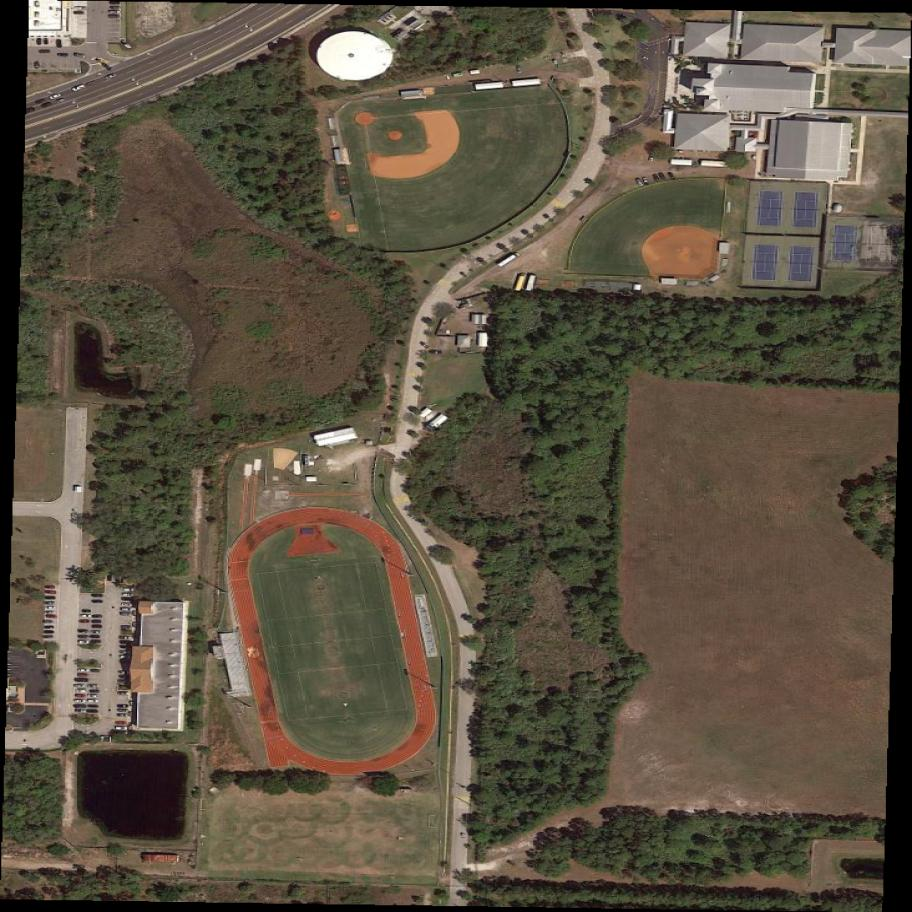large-vehicle: (497, 251, 522, 270), (515, 272, 527, 292)
small-vehicle: (658, 171, 669, 183), (106, 72, 118, 81), (50, 92, 62, 100), (653, 173, 662, 183), (55, 97, 66, 105), (74, 83, 85, 91), (668, 171, 677, 180), (108, 13, 121, 19), (42, 102, 54, 108), (77, 634, 90, 639), (637, 179, 644, 188), (644, 176, 651, 185), (78, 639, 90, 644), (75, 704, 87, 709), (74, 11, 86, 16), (90, 669, 102, 674), (35, 99, 46, 104), (76, 683, 87, 688), (649, 153, 655, 162), (76, 53, 86, 58), (93, 613, 103, 618), (78, 668, 90, 672), (76, 678, 88, 682), (119, 640, 131, 644), (57, 53, 69, 57), (81, 614, 91, 618), (120, 704, 130, 708), (78, 673, 88, 677), (76, 689, 86, 693), (121, 645, 131, 649), (57, 40, 62, 48), (90, 684, 100, 688), (45, 602, 55, 606), (78, 630, 88, 634), (123, 588, 136, 591), (118, 692, 127, 696), (93, 630, 102, 634), (34, 61, 40, 67), (93, 625, 102, 629), (118, 709, 129, 712), (122, 607, 133, 610), (121, 636, 132, 639), (45, 606, 56, 609), (110, 6, 121, 9), (87, 710, 98, 713), (39, 50, 50, 53), (90, 705, 98, 709), (122, 597, 132, 600), (123, 603, 133, 606), (121, 612, 131, 615), (82, 609, 92, 612), (117, 726, 127, 729), (88, 699, 98, 702), (90, 690, 100, 693), (75, 710, 85, 713), (120, 680, 130, 683), (120, 650, 130, 653), (91, 640, 101, 643), (88, 694, 98, 697), (46, 596, 56, 599), (46, 615, 56, 618), (45, 620, 55, 623), (92, 594, 102, 597), (92, 601, 102, 604), (92, 620, 102, 623), (45, 630, 52, 634), (123, 593, 132, 596), (118, 714, 127, 717), (117, 720, 126, 723), (76, 694, 85, 697), (76, 699, 85, 702), (91, 635, 100, 638), (46, 586, 55, 589), (46, 591, 55, 594), (45, 626, 54, 629), (122, 656, 130, 659), (80, 620, 88, 623), (118, 676, 128, 678), (45, 612, 55, 614), (120, 672, 128, 674), (44, 636, 52, 638)
storage-tank: (316, 30, 395, 81)
